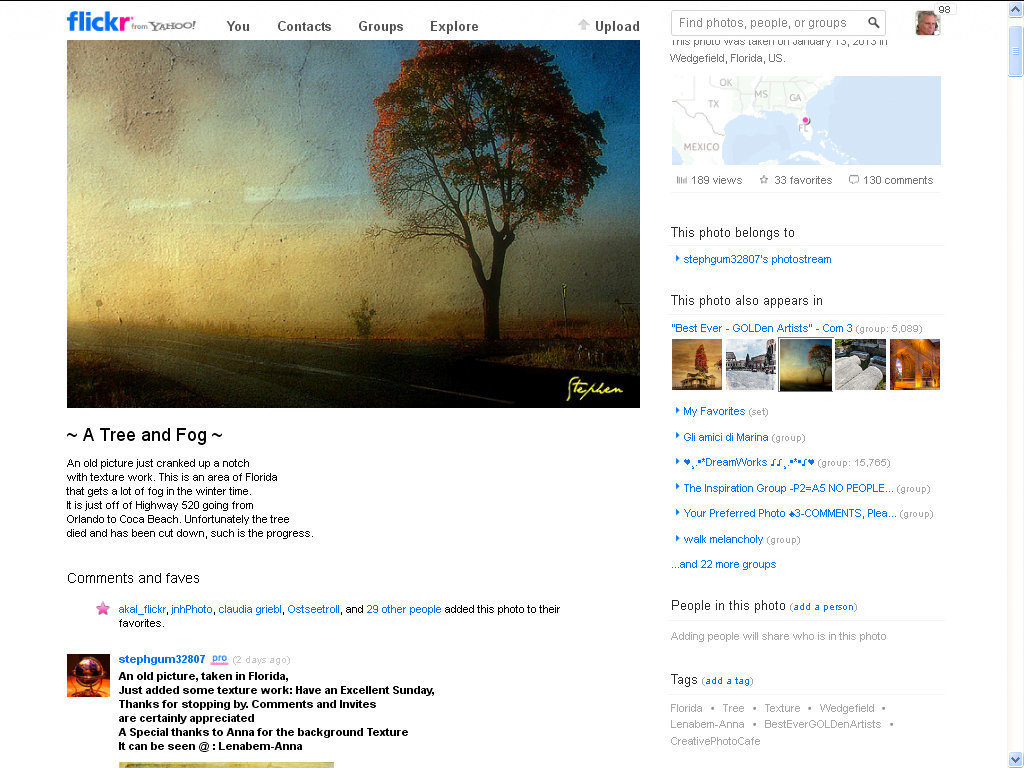Tree: (360, 39, 606, 357)
